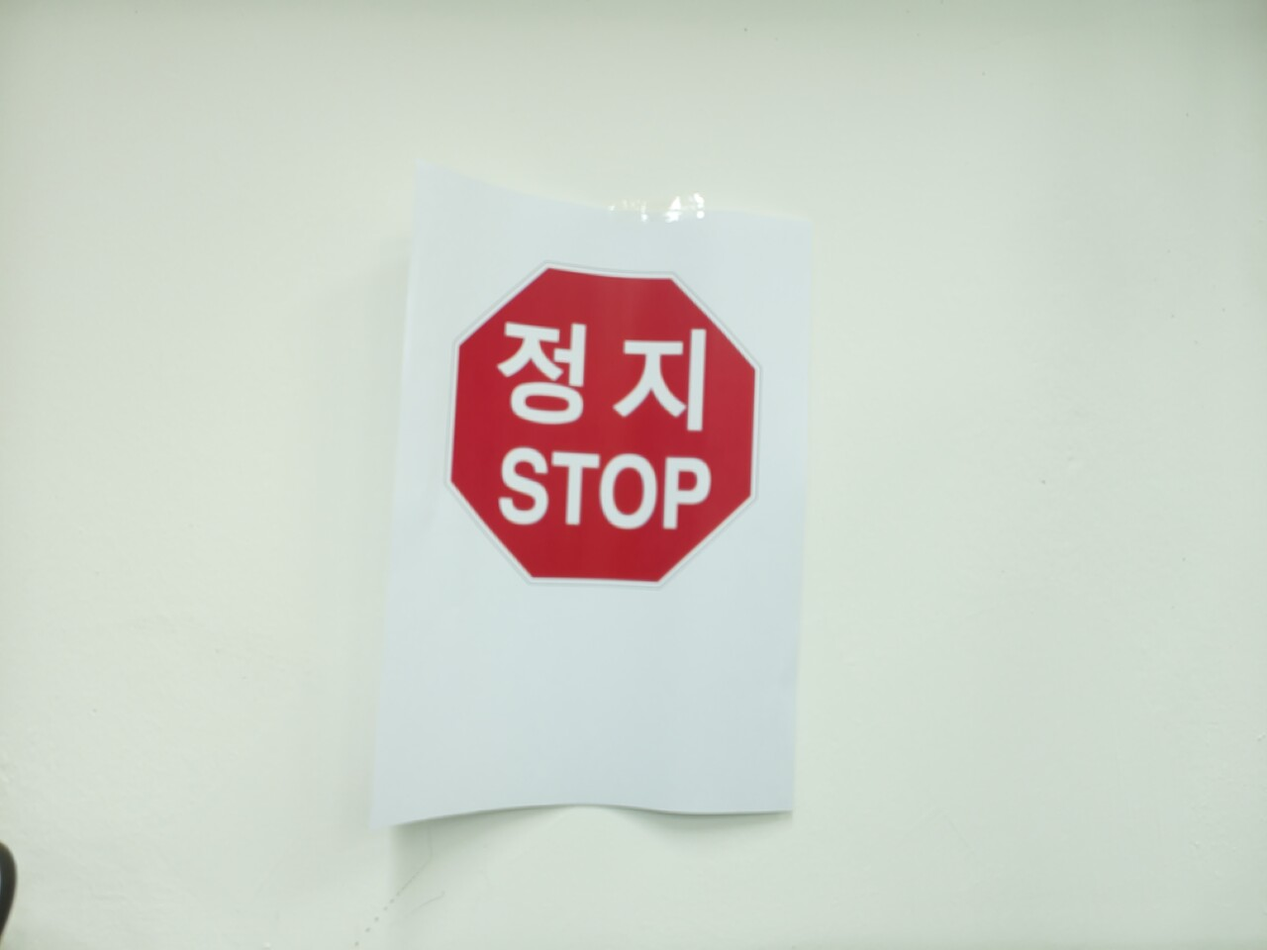stop: (440, 258, 765, 592)
